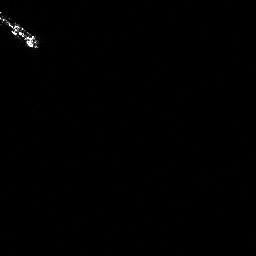ship: (1, 16, 39, 49)
